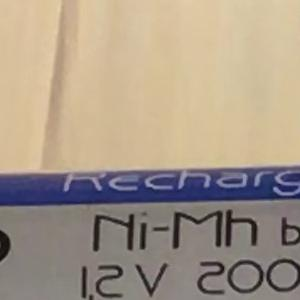keyword: (83, 174, 274, 262)
